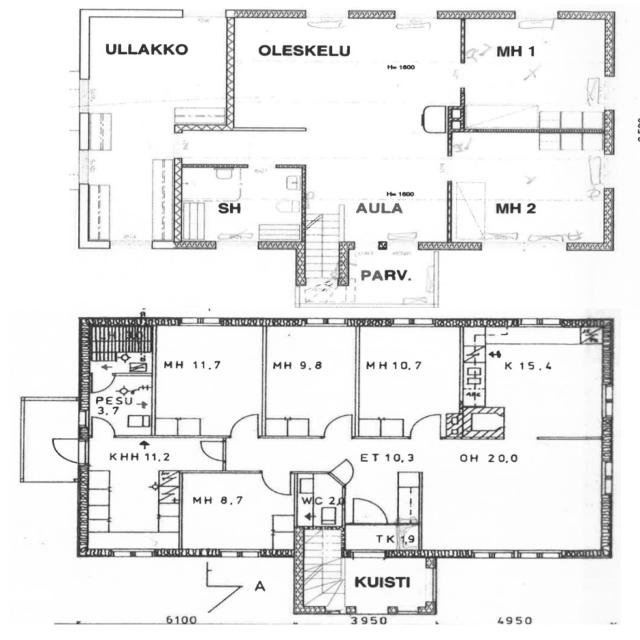door: (350, 494, 389, 526), (226, 411, 263, 442), (406, 411, 444, 440), (50, 436, 87, 465), (322, 411, 356, 441), (260, 469, 294, 497), (196, 437, 230, 464), (329, 460, 356, 486), (89, 415, 117, 440), (88, 371, 116, 394), (385, 230, 421, 247)
window: (72, 146, 94, 187), (600, 152, 622, 190), (388, 315, 439, 330), (215, 547, 265, 562), (598, 458, 617, 497), (599, 381, 618, 420), (301, 315, 353, 329), (383, 230, 422, 248), (602, 74, 620, 112), (213, 237, 260, 251), (514, 316, 564, 329), (109, 547, 157, 560), (348, 548, 389, 563), (177, 316, 227, 328), (516, 549, 564, 561), (513, 10, 560, 22), (108, 239, 154, 251), (394, 9, 439, 21), (472, 549, 517, 560), (392, 606, 422, 618), (350, 239, 384, 249), (246, 162, 278, 171)
zone: (418, 439, 608, 551), (448, 130, 611, 246), (462, 18, 610, 131), (462, 326, 609, 439), (82, 16, 229, 104), (153, 324, 264, 437), (356, 325, 462, 435), (264, 326, 357, 436), (177, 472, 298, 554), (176, 168, 306, 244), (82, 458, 183, 552), (337, 557, 436, 615), (342, 249, 439, 307), (87, 372, 154, 436), (295, 473, 344, 529), (343, 524, 420, 557)
